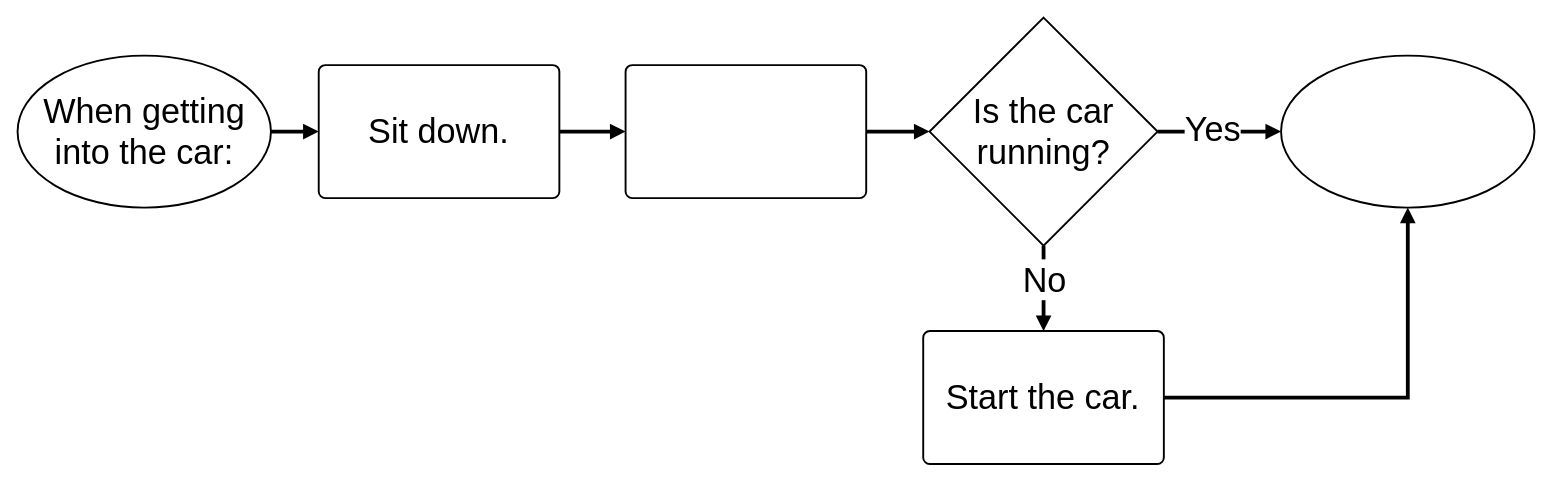
This 1551x481 diagram has some shape labels left out. Each missing label, with the box of its shape:
Drive away.: (1280, 54, 1535, 208)
Fasten seat belt.: (624, 64, 867, 199)
